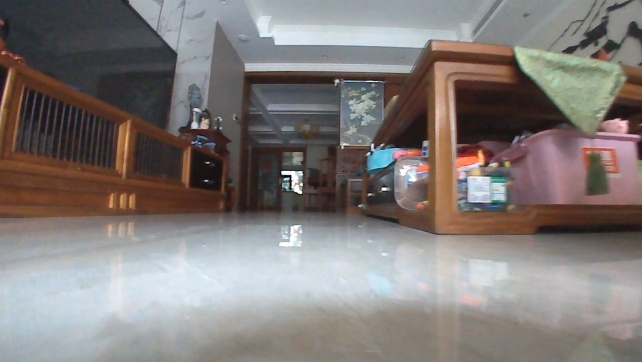TV_stand: (0, 51, 231, 220)
dining_table: (301, 155, 339, 213)
tea_table: (357, 36, 641, 237)
